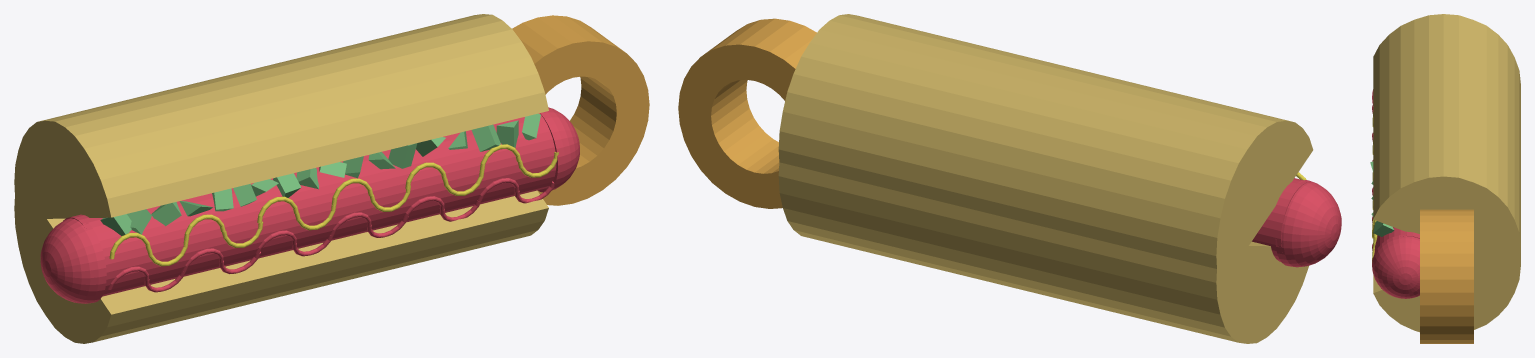
Rendered from hot_dog.gltf.
3 renders of one model, left to right at view 1: azimuth 30°, elevation 25°; view 2: azimuth 150°, elevation 25°; view 3: azimuth 270°, elevation 25°, orthographic. The views are drawn at different scales.
Bounding box in the file's own units: 88.9 × 29.11 × 24.88.
